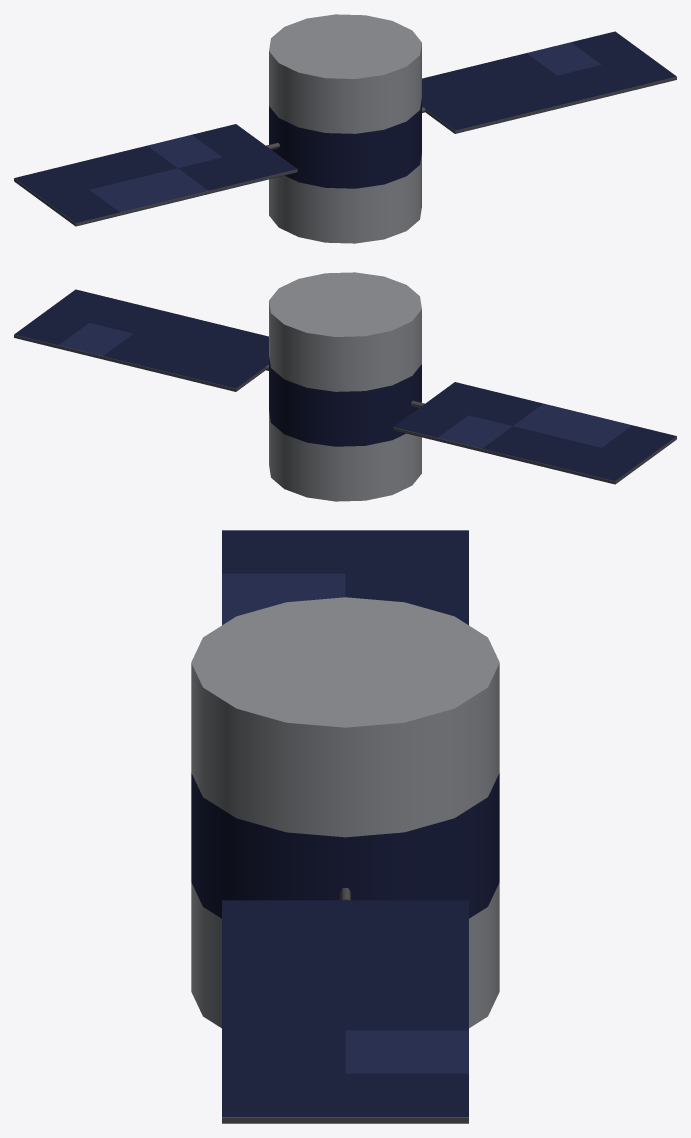
The model's file is gen-cyl-pan.obj.
3 renders of one model, top to bottom at view 1: azimuth 30°, elevation 25°; view 2: azimuth 150°, elevation 25°; view 3: azimuth 270°, elevation 25°, orthographic. The views are drawn at different scales.
Parts seen in each view (by area): view 1: gen-cyl-pan; view 2: gen-cyl-pan; view 3: gen-cyl-pan.
Boxes of the visible parts, x1,y1,x2,y2 form: gen-cyl-pan: [14, 14, 676, 243]; gen-cyl-pan: [14, 272, 676, 501]; gen-cyl-pan: [191, 530, 499, 1123].
Bounding box in the file's own units: 7.65 × 2 × 1.7.
